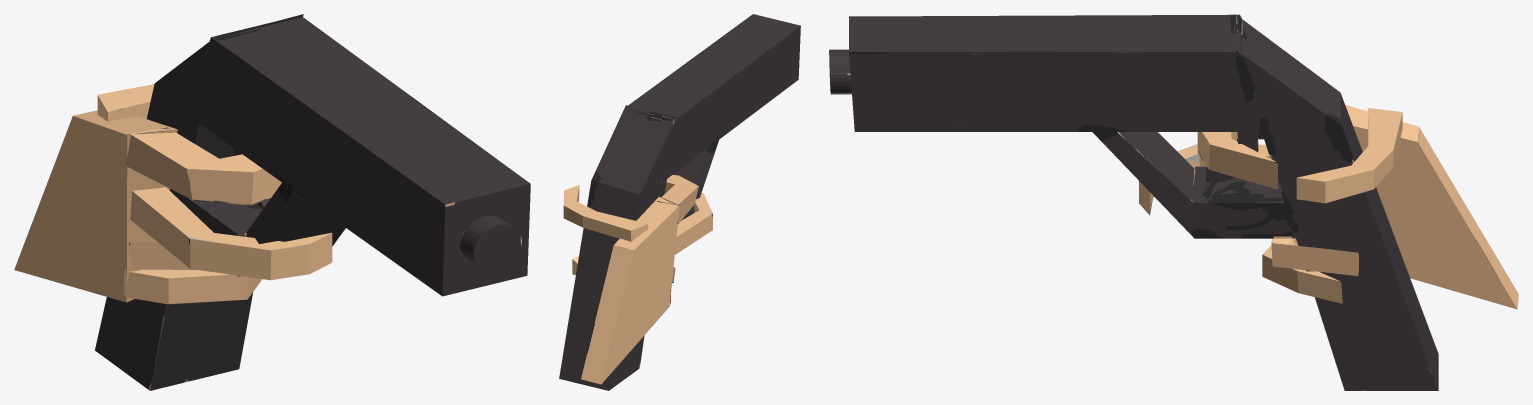
Rendered from DualGun.glb.
3 renders of one model, left to right at view 1: azimuth 30°, elevation 25°; view 2: azimuth 150°, elevation 25°; view 3: azimuth 270°, elevation 25°, orthographic. The views are drawn at different scales.
Visible parts, largest first — view 1: Cube; view 2: Cube; view 3: Cube.
Boxes of the visible parts, x1,y1,x2,y2 form: Cube: (14, 14, 530, 390); Cube: (559, 14, 800, 390); Cube: (829, 14, 1518, 390).
Size of the model in its own units: 0.4396 by 0.8718 by 1.59.
Materials: 1 (1 with a texture image).
